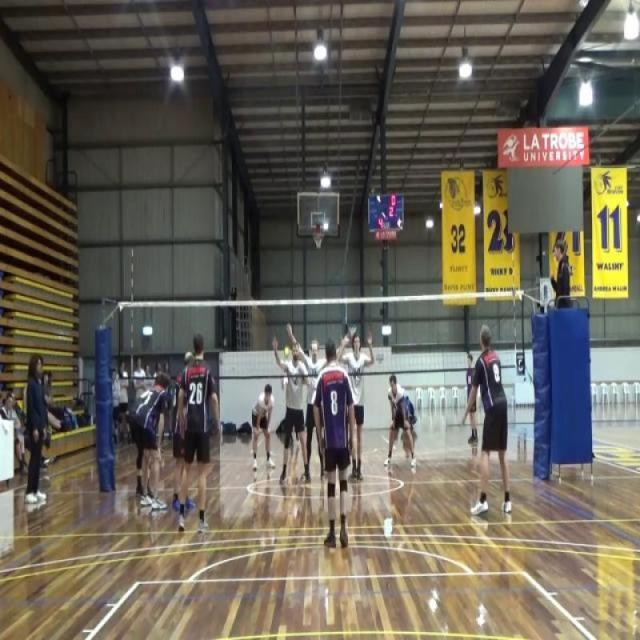volleyball: (284, 346, 290, 358)
